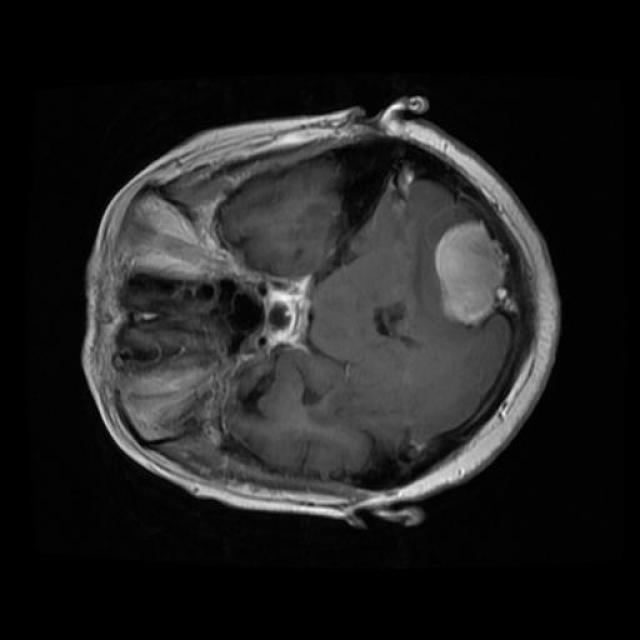Meningioma: (434, 220, 508, 325)
